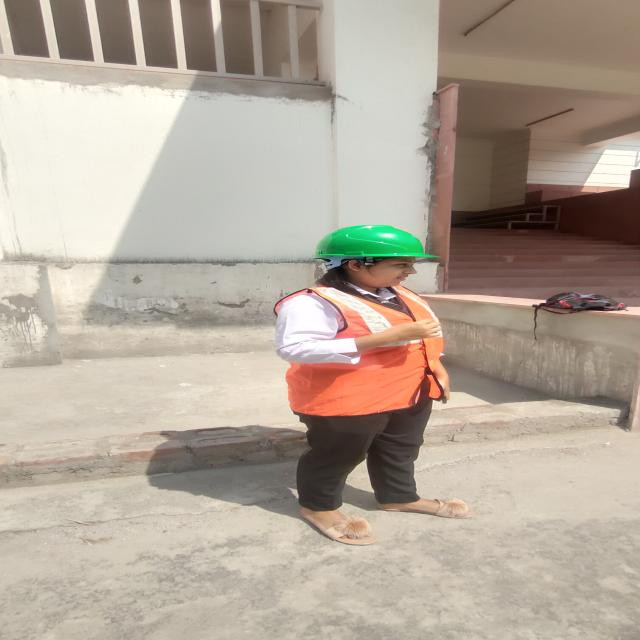safe: (274, 224, 457, 546)
